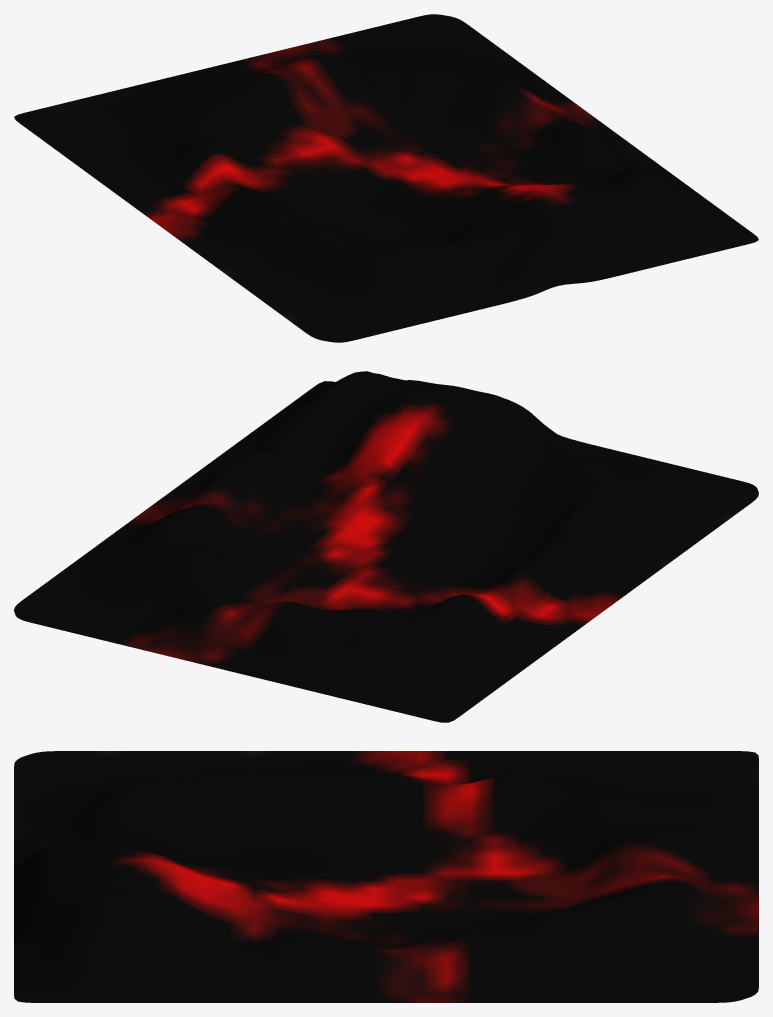
The model's file is Terrain.glb.
The picture shows the model from 3 angles, top to bottom: view 1: azimuth 30°, elevation 25°; view 2: azimuth 150°, elevation 25°; view 3: azimuth 270°, elevation 25°; orthographic projection. The views are drawn at different scales.
Parts seen in each view (by area): view 1: SM_Terrain_MainMenu; view 2: SM_Terrain_MainMenu; view 3: SM_Terrain_MainMenu.
Boxes of the visible parts, <box> form: SM_Terrain_MainMenu: <box>14,14,758,342</box>; SM_Terrain_MainMenu: <box>14,371,758,722</box>; SM_Terrain_MainMenu: <box>14,751,758,1002</box>.
Size of the model in its own units: 200 by 24.14 by 250.
